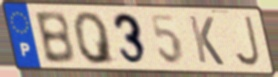3: (112, 10, 152, 68)
5: (148, 12, 186, 67)
B: (32, 10, 78, 66)
J: (232, 15, 262, 69)
K: (186, 14, 226, 68)
Q: (71, 10, 118, 67)
